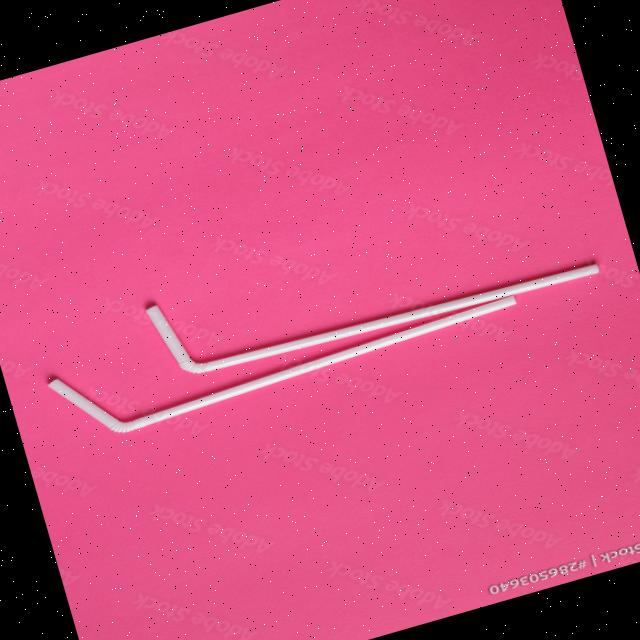plastic: (88, 171, 612, 411)
